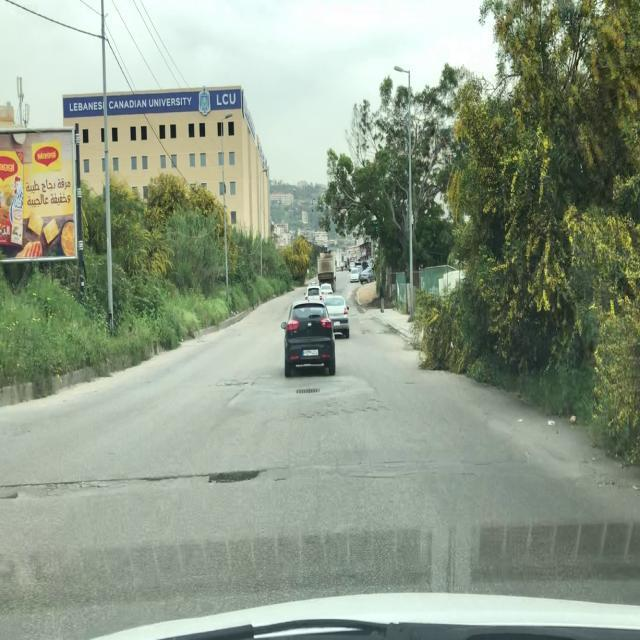Buraco: (206, 468, 265, 486)
